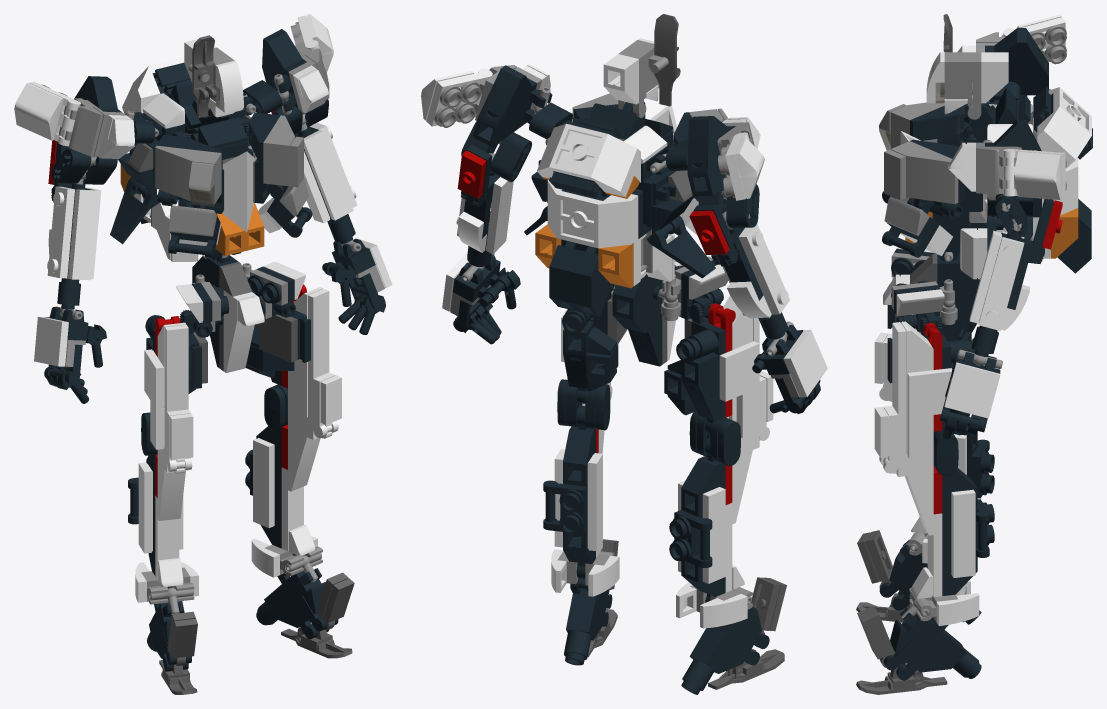
Rendered from sap-02w-shirokami.dae.
3 renders of one model, left to right at view 1: azimuth 30°, elevation 25°; view 2: azimuth 150°, elevation 25°; view 3: azimuth 270°, elevation 25°, orthographic. The views are drawn at different scales.
Size of the model in its own units: 349 by 208 by 606.
